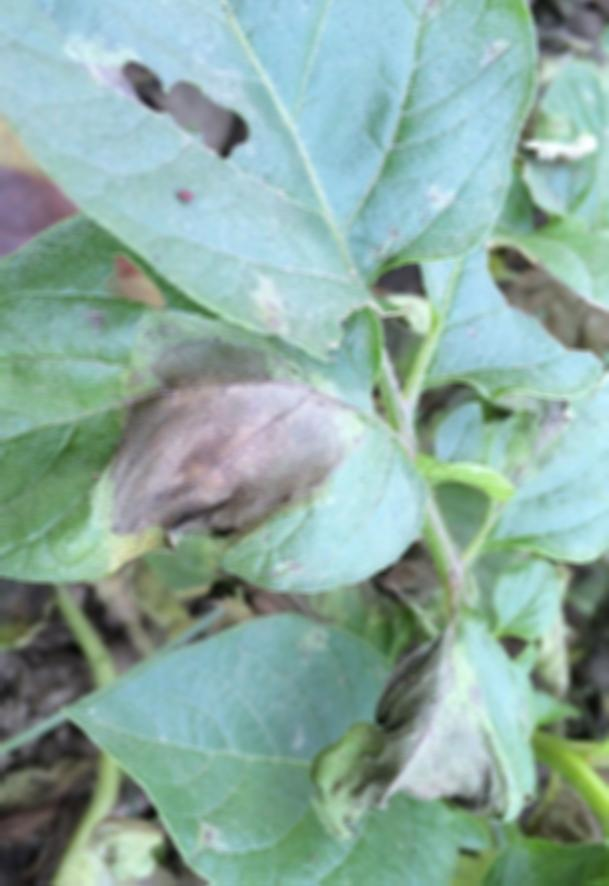Tomato leaf late blight: (69, 369, 450, 610), (318, 603, 551, 836)
